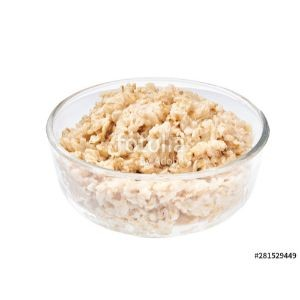oat_brain food: (98, 91, 212, 157)
